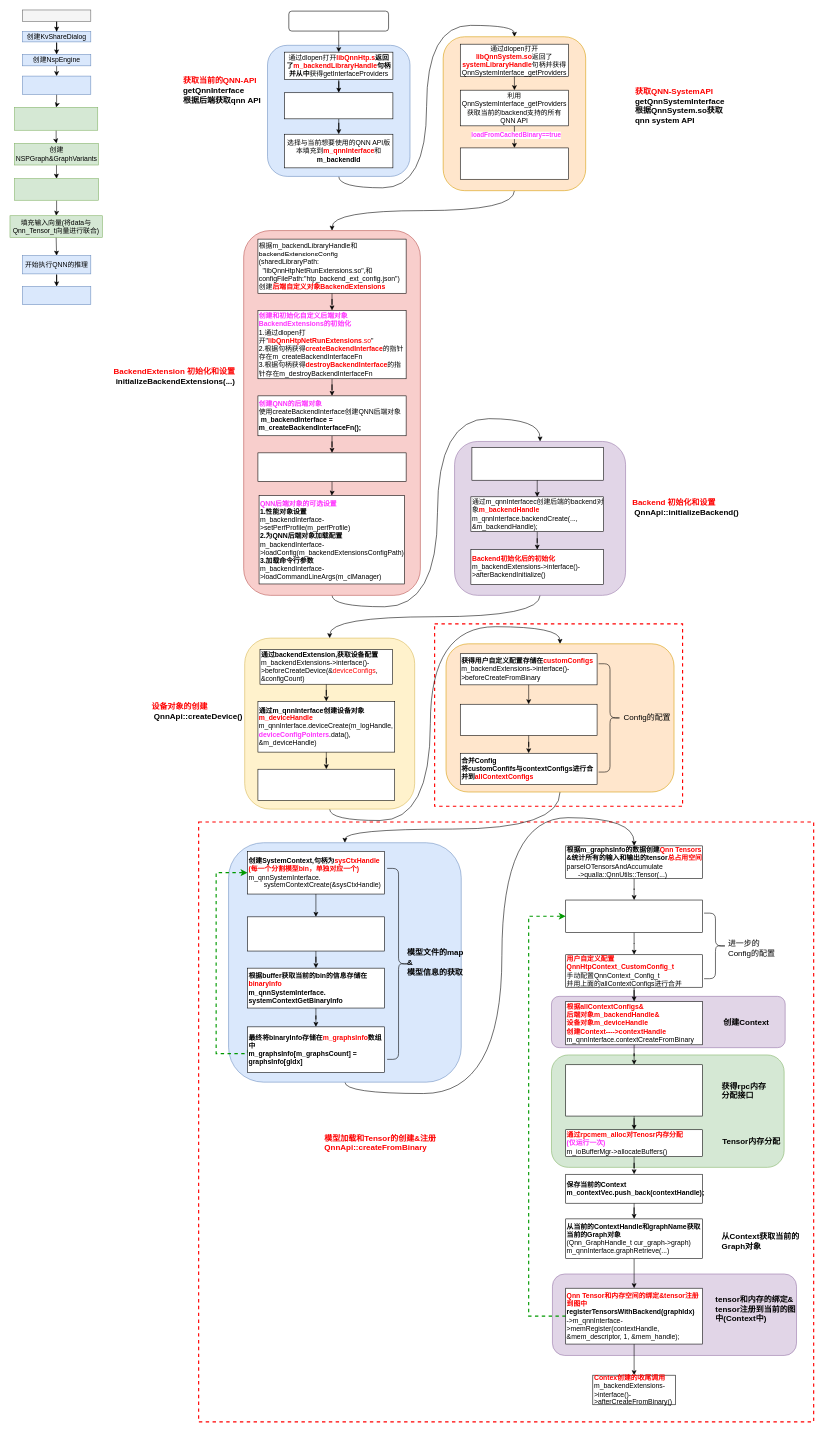
The diagram is 824 pixels wide and 1432 high, and some of its shapes have lost their labels. The box of each missing label's shape, as (x1, y1, x2, y2) in pixels:
Backend初始化前的初始化 m_backendExtensions->interface()->beforeBackendInitialize: (471, 447, 604, 480)
config的进一步手动配置和合并 手动配置 QnnContext_Config_t 并用上面的 allContextConfigs进行合并: (565, 899, 703, 933)
m_qnnApi->initialize(...) 模型的加载&QNN的初始化: (14, 107, 98, 130)
main: (22, 9, 91, 21)
QnnApi::initialize: (288, 11, 389, 31)
QNN后端对象初始化 m_backendInterface ->initialize(m_backendLibHandle): (257, 452, 406, 481)
利用getInterfaceProviders获取当前的backend支持的所有QNN API: (284, 92, 393, 119)
唤醒Dispatch线程--更新KVCACHE: (22, 286, 91, 305)
固定设置Contex的配置,存储在 contextConfigs QnnApi::getContextConfigs: (460, 704, 597, 735)
完成设备对象的创建 m_backendExtensions->interface()->afterCreateDevice(): (257, 769, 395, 800)
将当前的模型bin文件map到 buffer 中 mmapBinaryFile(binaryPath, &mappedBuffer, bufferSize): (247, 916, 384, 951)
执行Load函数 (QNN所有初始化): (22, 76, 91, 94)
计算输入向量rope_sin&rope_cos: (14, 178, 99, 200)
选择与当前想要使用的QNN API版本相符合的API填充到 m_qnnSystemInterface: (460, 147, 569, 179)
通过libcdsprpc.so文件获取rpcmem分配函数接口 (仅运行一次) rpcmem_alloc rpcmem_free rpcmem_to_fd: (565, 1064, 703, 1116)
